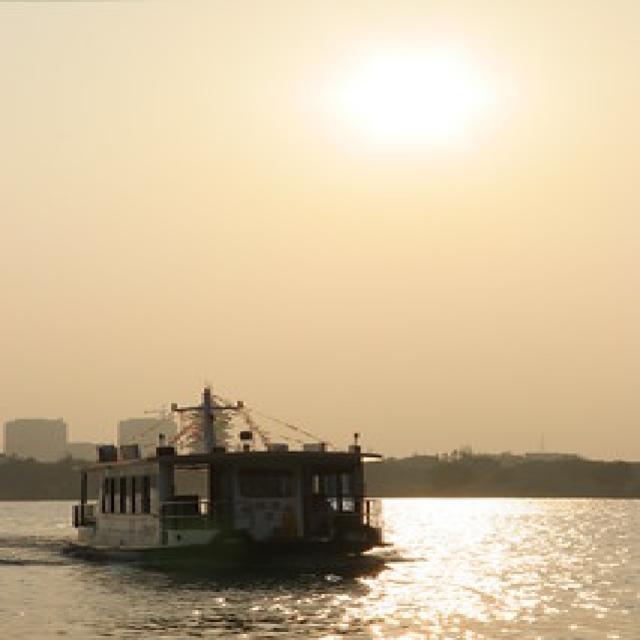houseboat: (53, 389, 395, 574)
